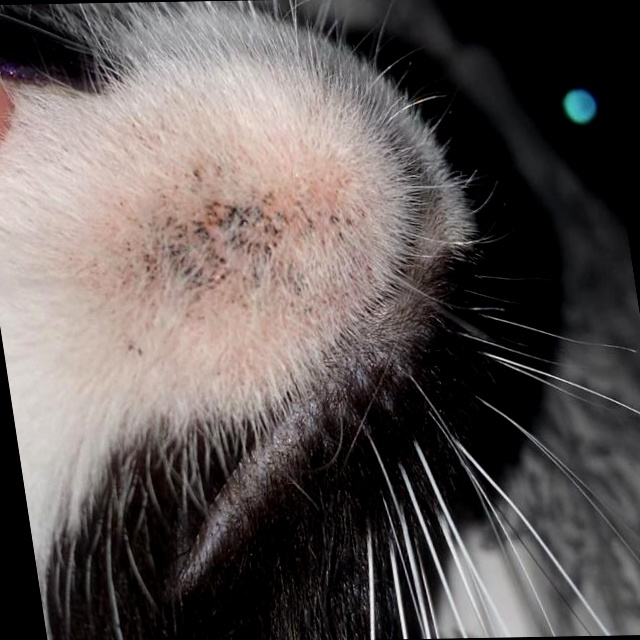acne: (75, 156, 398, 380)
